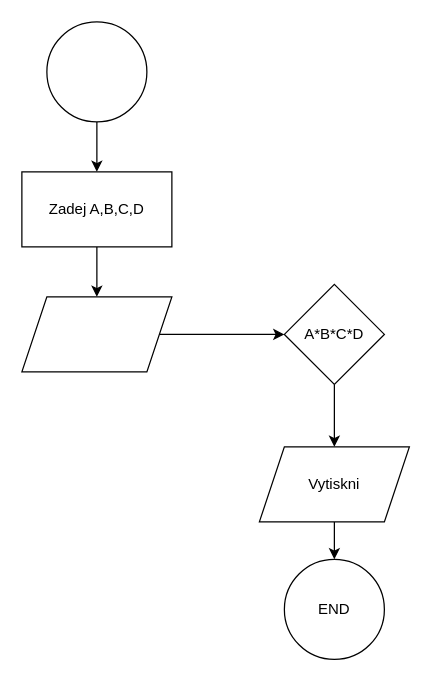
The diagram is 431 pixels wide and 681 high, and some of its shapes have lost their labels. The shapes that lost their labels are listed below. From the top down, each one's centre as x and y in pixels, then its label:
At [96,71]: "Start".
At [96,334]: "int A,B,C,D".
